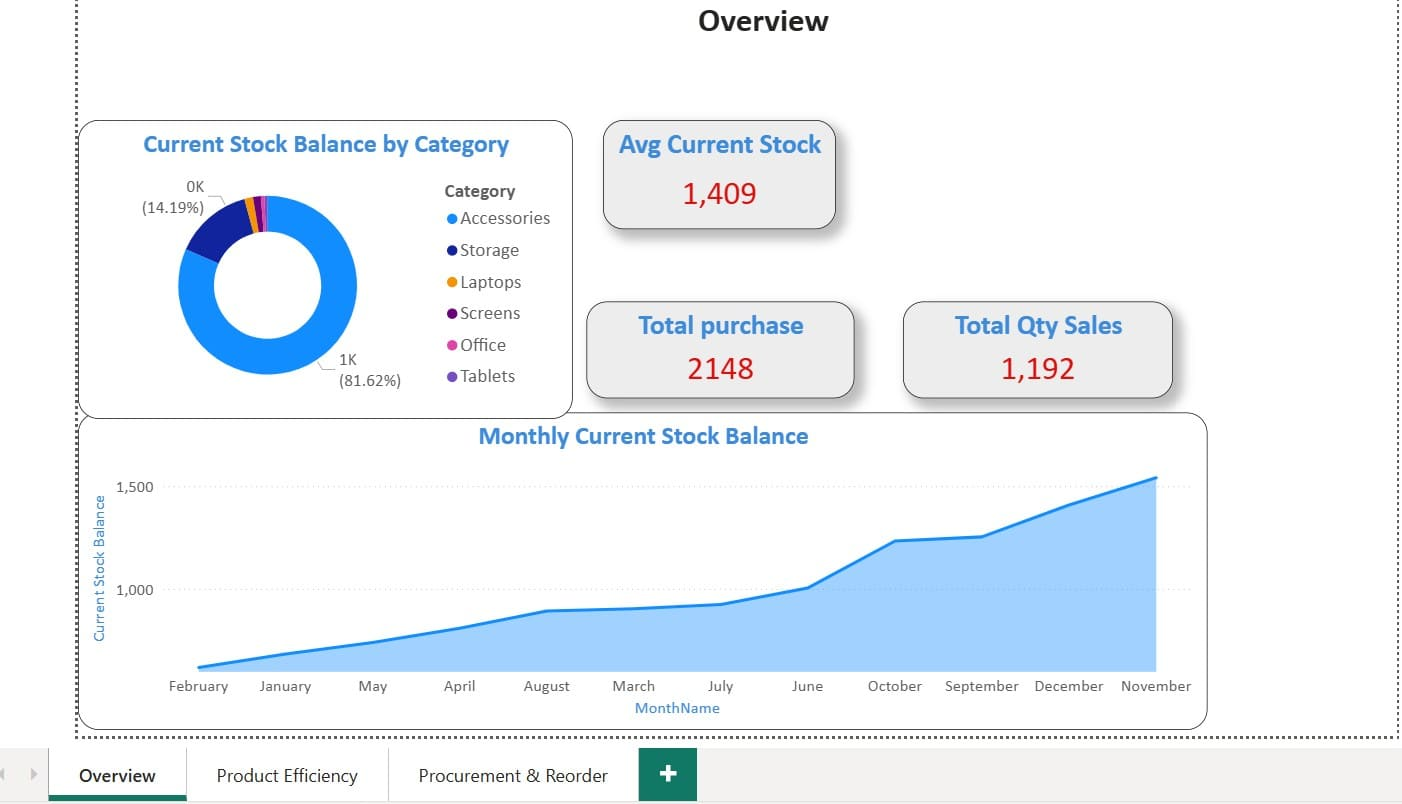

This screenshot's page, from the dashboard's own definition file:
{"tool":"powerbi","page":{"name":"Overview","canvas":[1280,720],"ordinal":0},"visuals":[{"type":"donutChart","fields":{"Y":["Fact_inventory_Movements.Current Stock Balance"],"Category":["Products.Category"]},"box":[0,122,480,290],"z":4},{"type":"textbox","box":[532,0,268,70],"z":5},{"type":"areaChart","fields":{"Category":["DimDate.Month Name"],"Y":["Fact_inventory_Movements.Current Stock Balance"]},"box":[0,414,1062,306],"z":6},{"type":"card","title":"Avg Current Stock","fields":{"Values":["Fact_Inventory_Movements.Current Stock Balance"]},"box":[510,122,226,106],"z":7},{"type":"card","title":"Total purchase","fields":{"Values":["Fact_Inventory_Movements.Total Purchers"]},"box":[494,298,260,94],"z":8},{"type":"card","title":"Total Qty Sales","fields":{"Values":["Fact_Inventory_Movements.Total Sales"]},"box":[800,298,262,94],"z":9}]}

Visuals, with their boxes on the page's 1280x720 design canvas (x1, y1, x2, y2). These are canvas units, not pixel positions in the 1402x804 screenshot, which may show the page scaled, cropped or inside an application window:
donutChart - Fact_inventory_Movements.Current Stock Balance x Products.Category: detection(0, 122, 480, 412)
textbox: detection(532, 0, 800, 70)
areaChart - DimDate.Month Name x Fact_inventory_Movements.Current Stock Balance: detection(0, 414, 1062, 720)
"Avg Current Stock" card: detection(510, 122, 736, 228)
"Total purchase" card: detection(494, 298, 754, 392)
"Total Qty Sales" card: detection(800, 298, 1062, 392)
